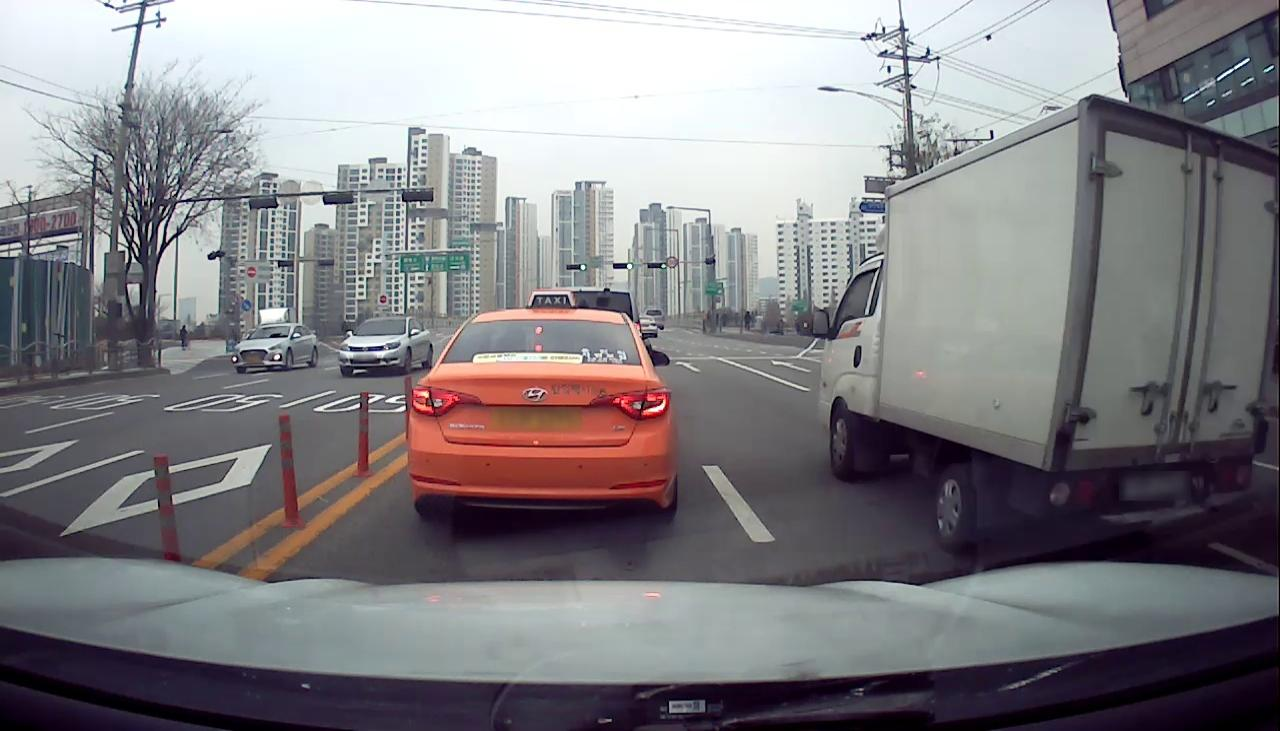Green Light: (580, 264, 586, 271), (626, 263, 633, 269), (660, 263, 666, 269)
